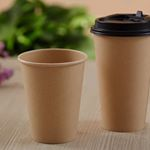cups: (88, 9, 150, 133), (15, 47, 90, 145)
